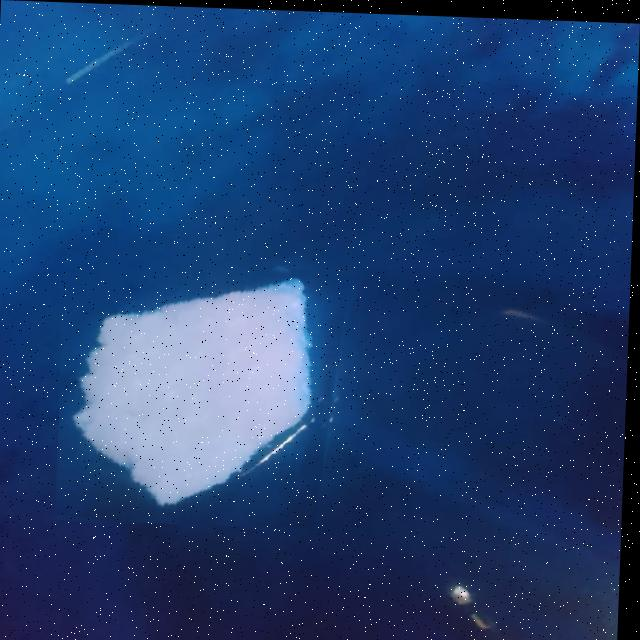thermocoal: (58, 233, 355, 528)
